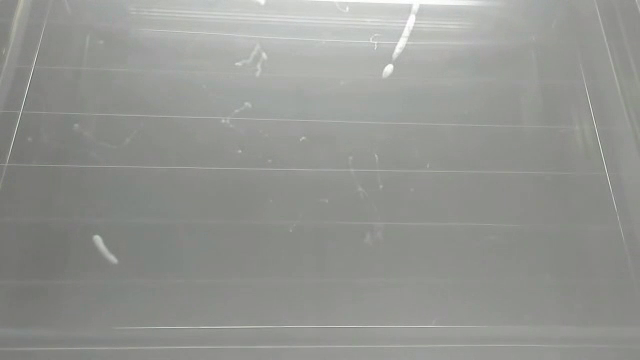alpha: (379, 1, 426, 80), (89, 233, 123, 268)
